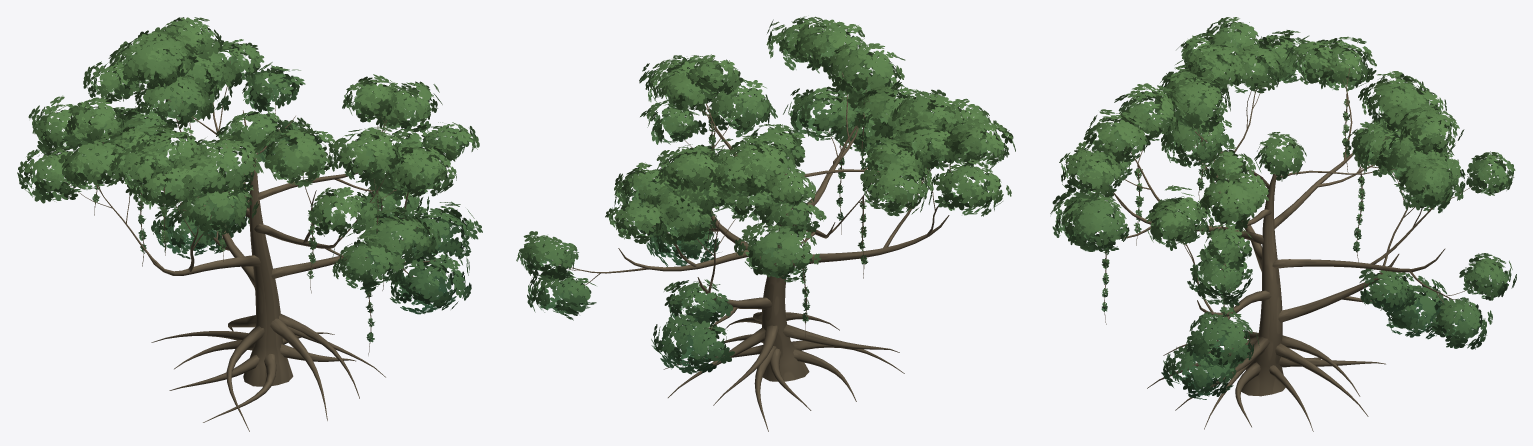
The model's file is tree.gltf.
The picture shows the model from 3 angles, left to right: view 1: azimuth 30°, elevation 25°; view 2: azimuth 150°, elevation 25°; view 3: azimuth 270°, elevation 25°; orthographic projection. The views are drawn at different scales.
Visible parts, largest first — view 1: Tree_LOD0; view 2: Tree_LOD0; view 3: Tree_LOD0.
Boxes of the visible parts, bbox=[...] form: Tree_LOD0: bbox=[17, 17, 482, 431]; Tree_LOD0: bbox=[516, 16, 1015, 431]; Tree_LOD0: bbox=[1050, 17, 1516, 431].
Size of the model in its own units: 20.88 by 14.07 by 20.68.
2 materials, 2 textured.
